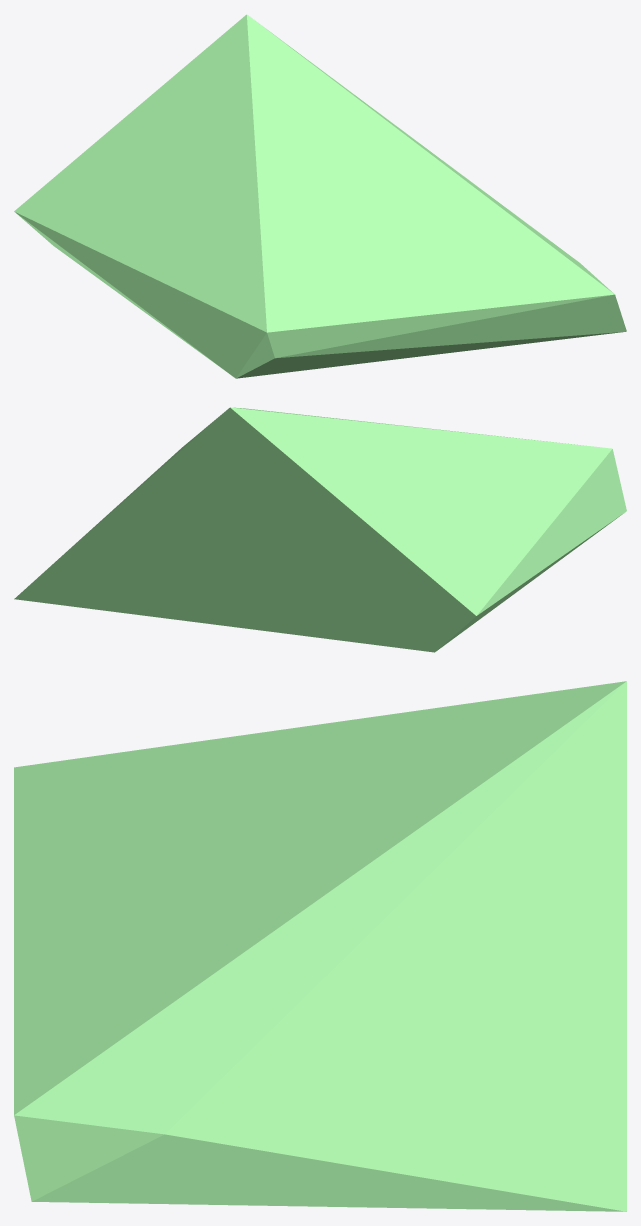
The model's file is UMIRobot_UMIRobot_link_2_convex_coll_24.dae.
The picture shows the model from 3 angles, top to bottom: view 1: azimuth 30°, elevation 25°; view 2: azimuth 150°, elevation 25°; view 3: azimuth 270°, elevation 25°; orthographic projection. The views are drawn at different scales.
Visible parts, largest first — view 1: node; view 2: node; view 3: node.
Boxes of the visible parts, x1,y1,x2,y2 form: node: (14, 14, 626, 378); node: (14, 407, 626, 652); node: (14, 681, 626, 1211).
Bounding box in the file's own units: 0.0588 × 0.0297 × 0.0445.
